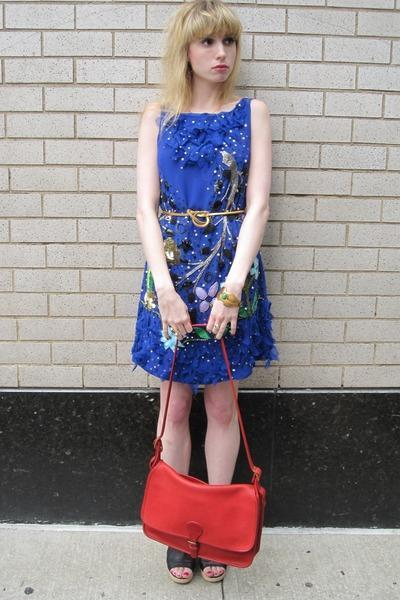bag: (141, 461, 277, 568)
dress: (131, 93, 278, 384)
shoe: (167, 547, 240, 599)
